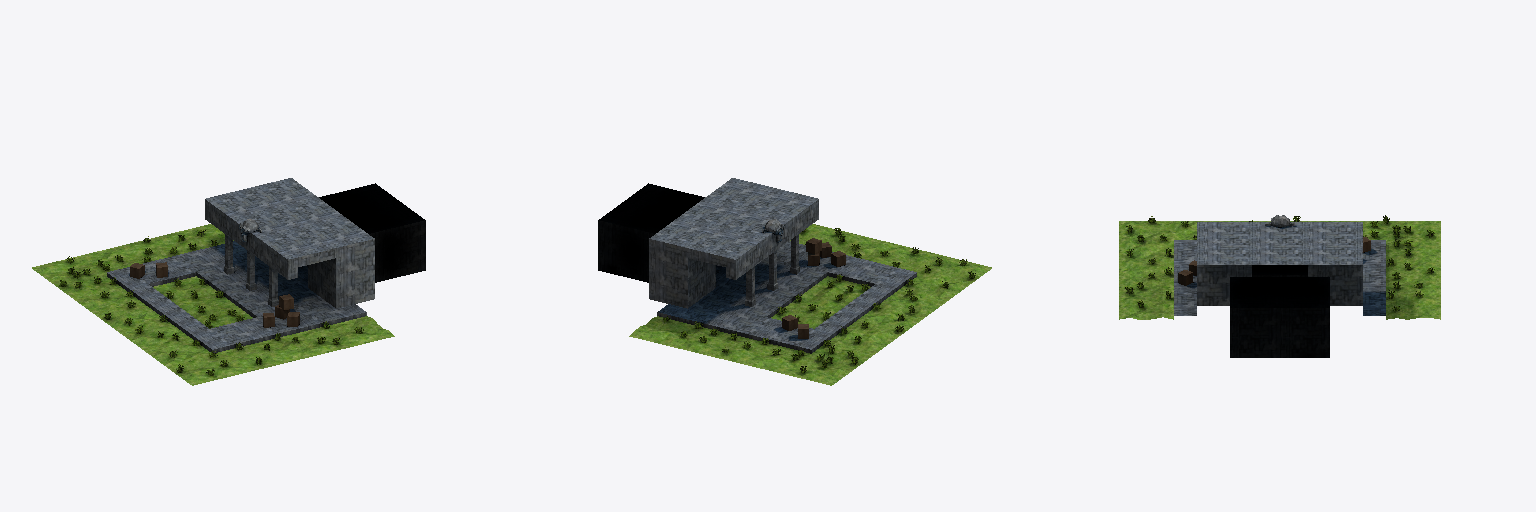
The picture shows the model from 3 angles: view 1: azimuth 30°, elevation 25°; view 2: azimuth 150°, elevation 25°; view 3: azimuth 270°, elevation 25°; orthographic projection.
Bounding box in the file's own units: 30 × 7.32 × 29.
Materials: 2 (2 with a texture image).